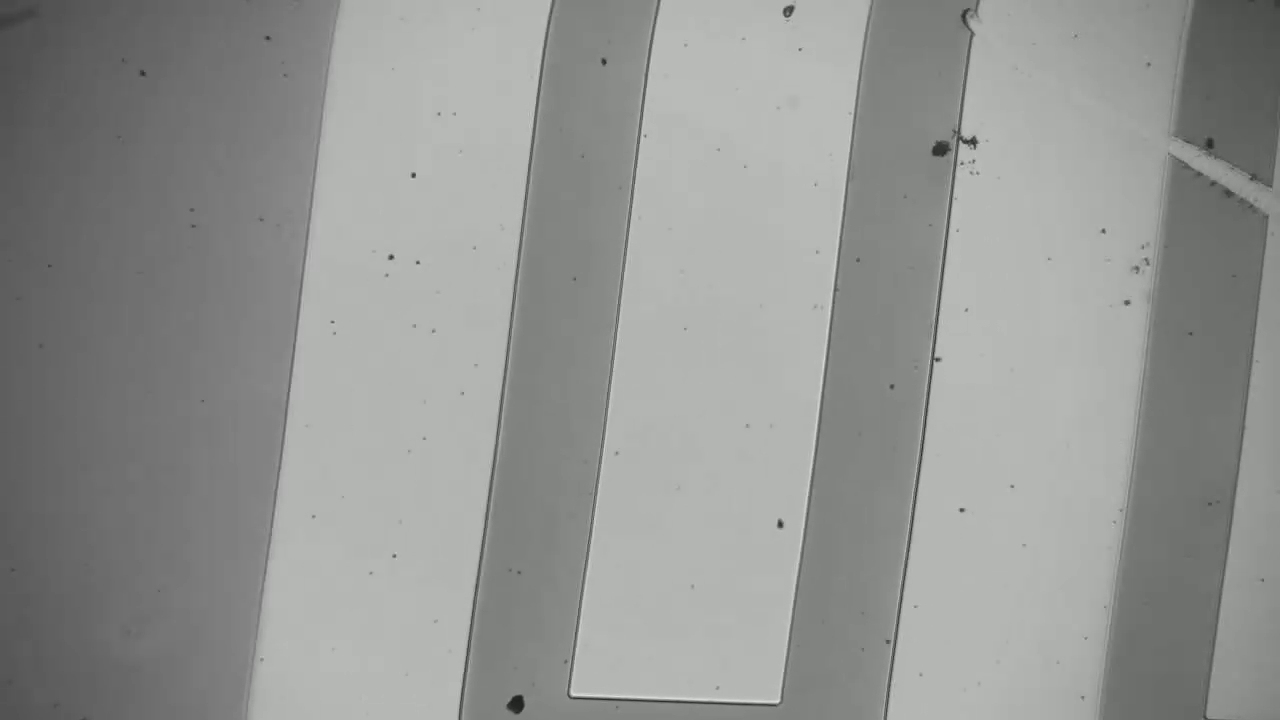Short_circuit: (1140, 88, 1280, 245)
